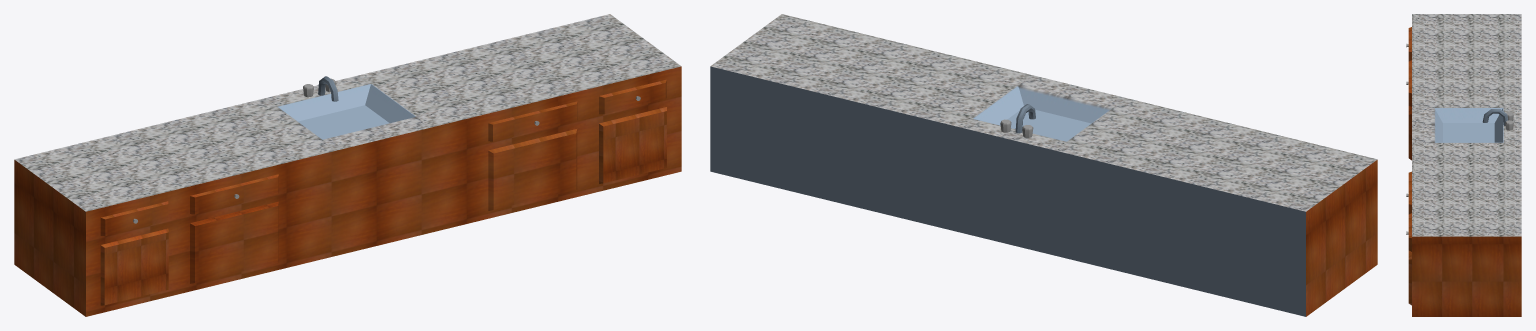
Rendered from kitchen_sink.fbx.
3 views of the same model, side by side, from view 1: azimuth 30°, elevation 25°; view 2: azimuth 150°, elevation 25°; view 3: azimuth 270°, elevation 25° (orthographic). The views are drawn at different scales.
Parts seen in each view (by area): view 1: polySurface1; view 2: polySurface1; view 3: polySurface1.
Part boxes in pixels (x1,y1,x2,y2): polySurface1: (14, 14, 681, 316); polySurface1: (710, 14, 1377, 316); polySurface1: (1406, 14, 1521, 316).
Bounding box in the file's own units: 3.99 × 0.8059 × 0.8721.
